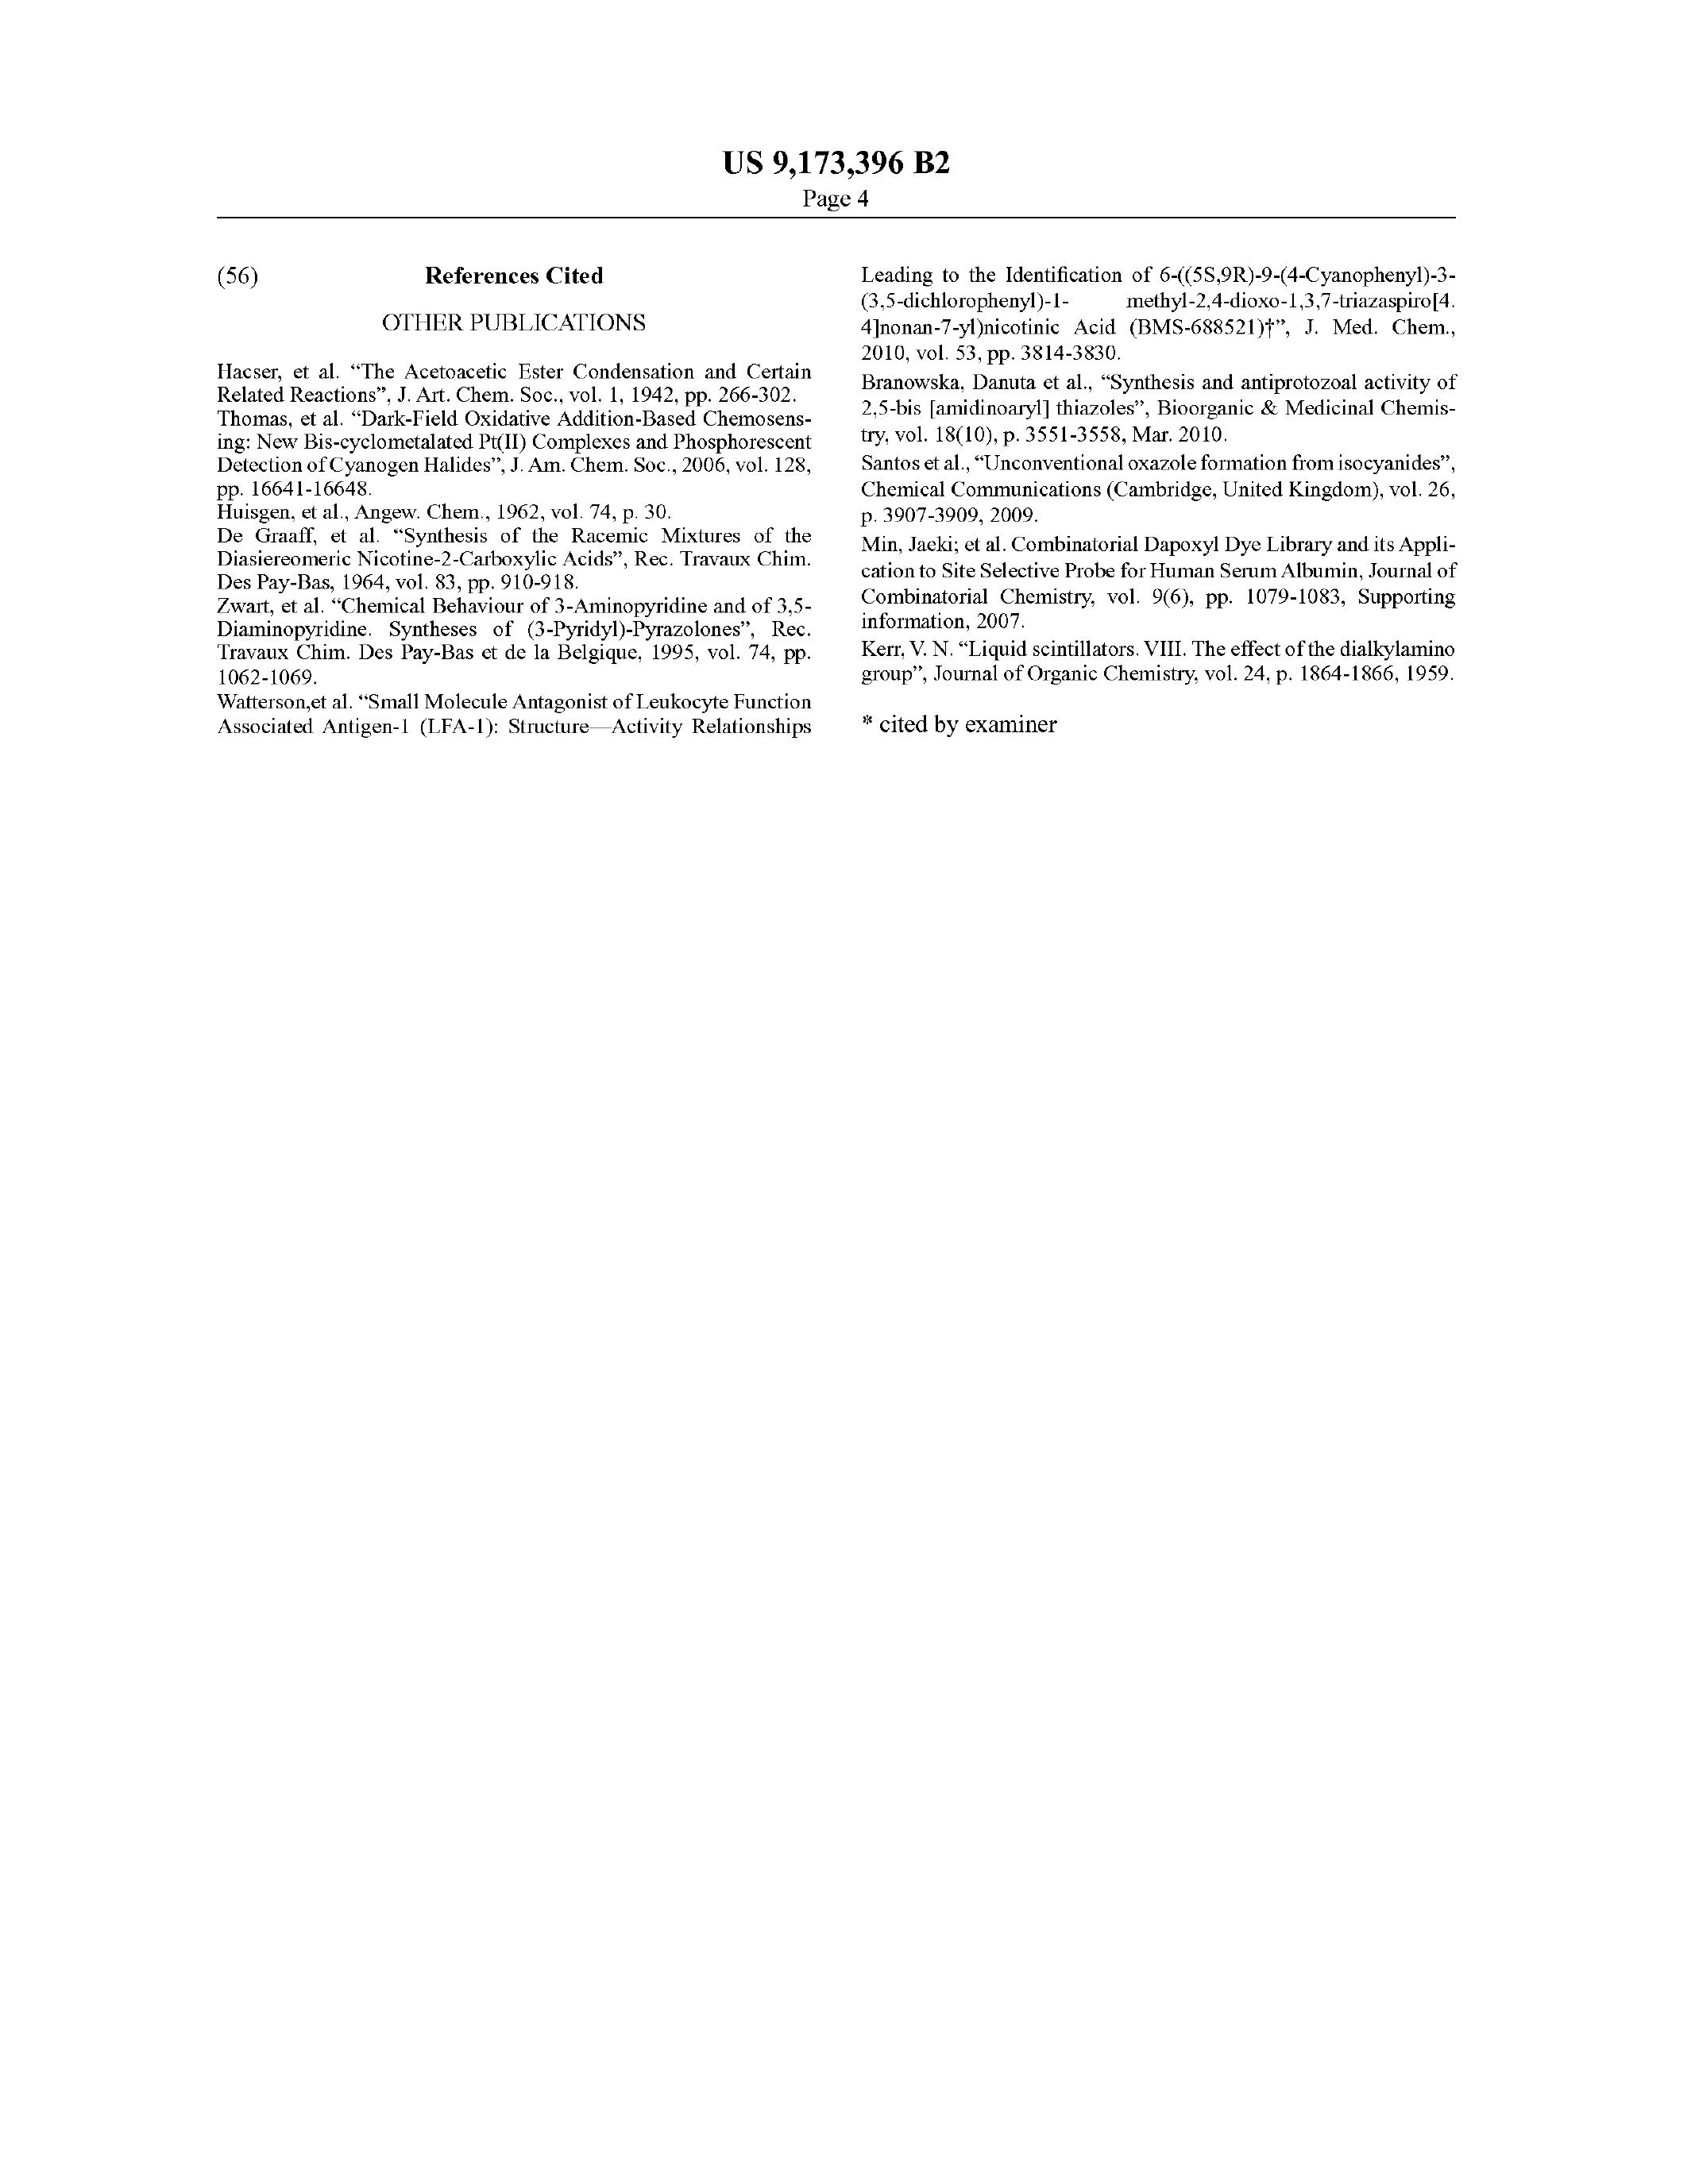reactions: (215, 349, 826, 486)
